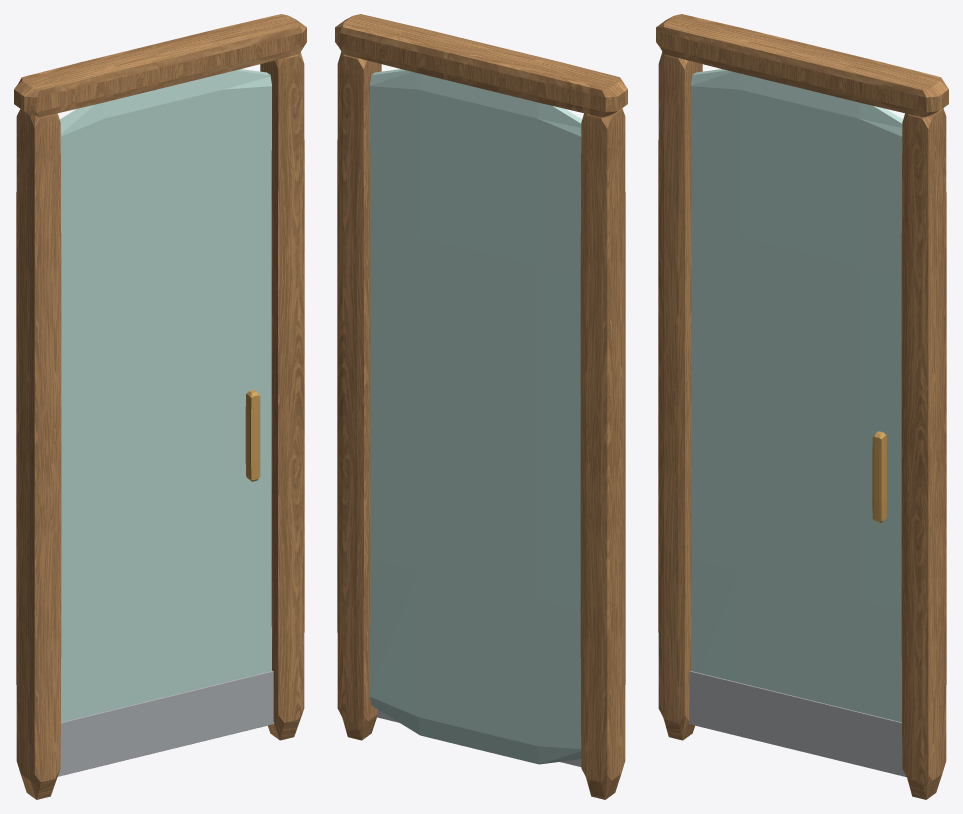
Rendered from hiperreal.glb.
3 views of the same model, side by side, from view 1: azimuth 30°, elevation 25°; view 2: azimuth 150°, elevation 25°; view 3: azimuth 330°, elevation 25° (orthographic).
Visible parts, largest first — view 1: Native component 3, Native component 0, Hiperreal placa de patada, Native component 4; view 2: Native component 3, Native component 0; view 3: Native component 3, Native component 0, Hiperreal placa de patada, Native component 4.
Boxes of the visible parts, x1=… form: Native component 3: x1=59, y1=69, x2=271, y2=722; Native component 0: x1=14, y1=14, x2=306, y2=799; Hiperreal placa de patada: x1=57, y1=671, x2=274, y2=776; Native component 4: x1=245, y1=390, x2=260, y2=481; Native component 3: x1=370, y1=69, x2=582, y2=764; Native component 0: x1=335, y1=14, x2=627, y2=799; Native component 3: x1=691, y1=69, x2=903, y2=722; Native component 0: x1=656, y1=14, x2=948, y2=799; Hiperreal placa de patada: x1=688, y1=671, x2=906, y2=776; Native component 4: x1=872, y1=431, x2=886, y2=523.
Size of the model in its own units: 1 by 2.41 by 0.1245.
Materials: 4 (1 with a texture image).
